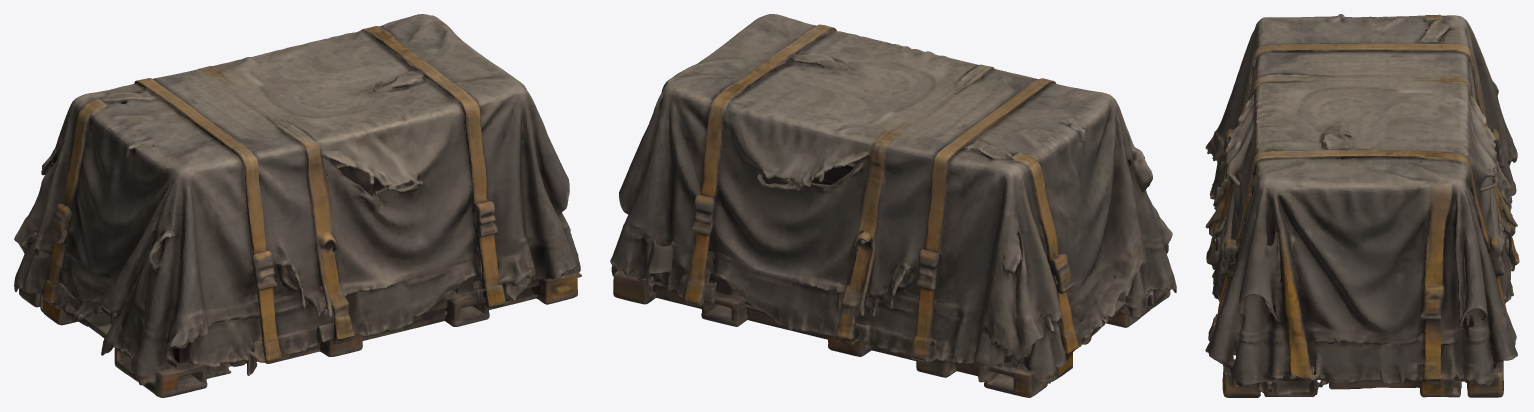
The model's file is tarp.glb.
The picture shows the model from 3 angles, left to right: view 1: azimuth 30°, elevation 25°; view 2: azimuth 150°, elevation 25°; view 3: azimuth 270°, elevation 25°; orthographic projection.
Parts seen in each view (by area): view 1: world; view 2: world; view 3: world.
Boxes of the visible parts, x1,y1,x2,y2 form: world: [14, 14, 581, 397]; world: [610, 14, 1176, 397]; world: [1205, 14, 1519, 397].
Size of the model in its own units: 2.4 by 1.07 by 1.49.
Materials: 1 (1 with a texture image).
